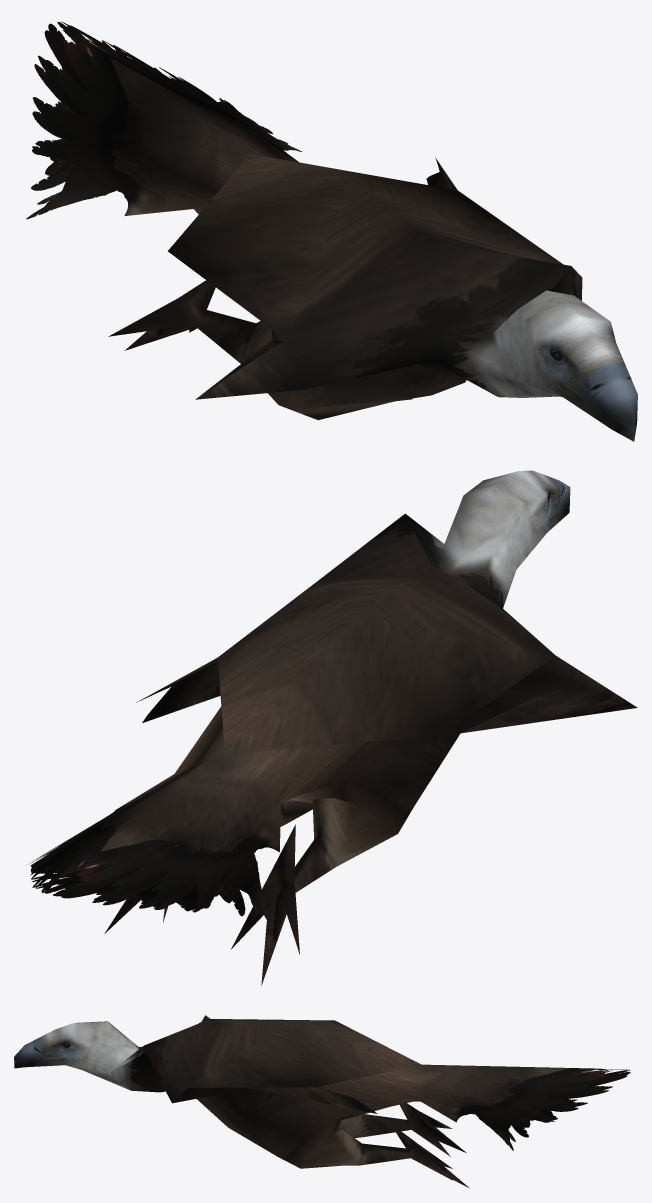
Rendered from vulture_torso.obj.
3 views of the same model, one above another, from view 1: azimuth 30°, elevation 25°; view 2: azimuth 150°, elevation 25°; view 3: azimuth 270°, elevation 25° (orthographic). The views are drawn at different scales.
Parts seen in each view (by area): view 1: VultureMesh_Mesh_006; view 2: VultureMesh_Mesh_006; view 3: VultureMesh_Mesh_006.
Part boxes in pixels (left/top/right/bottom): VultureMesh_Mesh_006: left=26, top=21, right=637, bottom=441; VultureMesh_Mesh_006: left=30, top=470, right=637, bottom=985; VultureMesh_Mesh_006: left=14, top=1015, right=630, bottom=1187.
Bounding box in the file's own units: 0.1595 × 0.0977 × 0.3611.
Materials: 1 (1 with a texture image).
